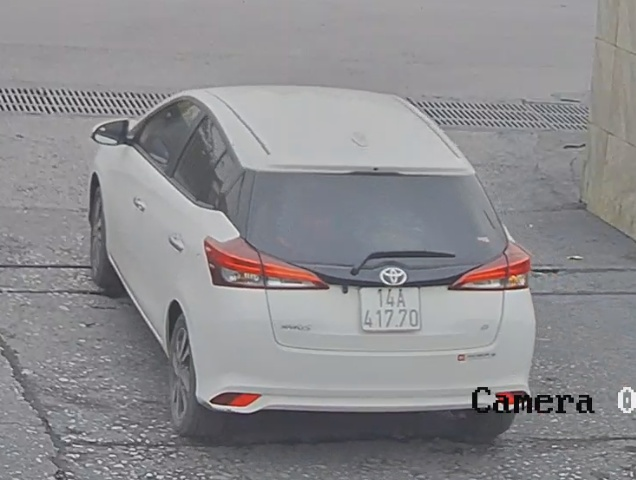vehicle plate: (357, 281, 425, 331)
